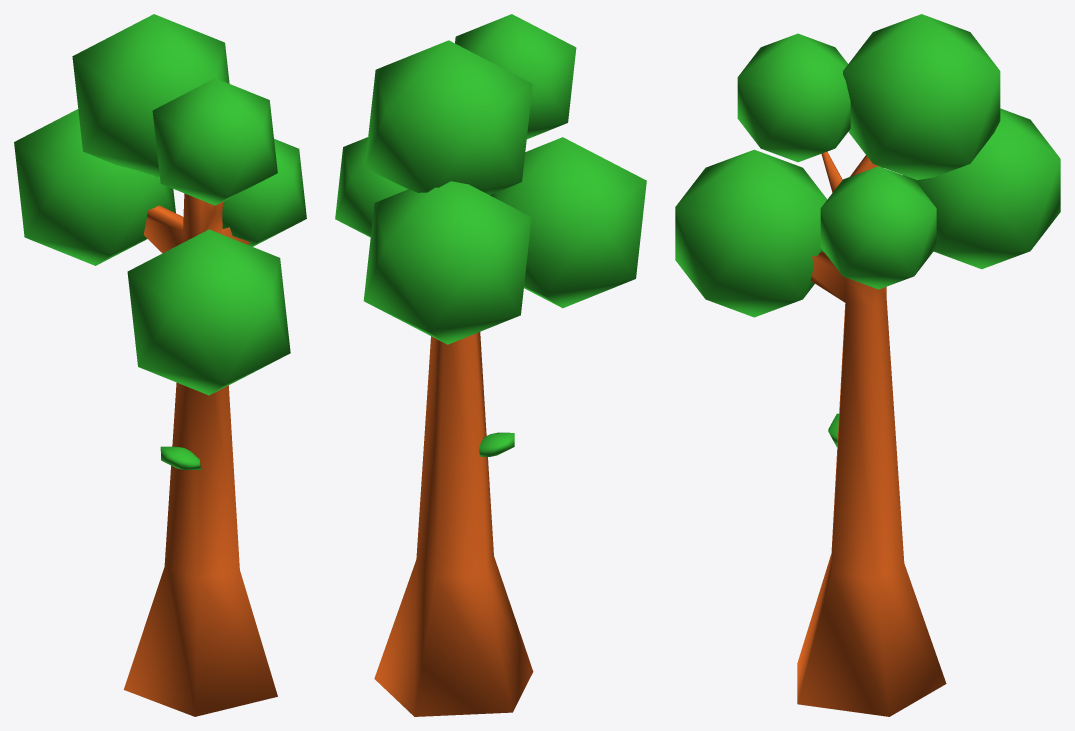
The model's file is SmallTree.glb.
3 renders of one model, left to right at view 1: azimuth 30°, elevation 25°; view 2: azimuth 150°, elevation 25°; view 3: azimuth 270°, elevation 25°, orthographic. The views are drawn at different scales.
Visible parts, largest first — view 1: pohon.001, Icosphere.005, Icosphere.006, Icosphere.004, Icosphere.007, Icosphere.008, Icosphere.009; view 2: pohon.001, Icosphere.004, Icosphere.006, Icosphere.005, Icosphere.007, Icosphere.008, Icosphere.009; view 3: pohon.001, Icosphere.006, Icosphere.005, Icosphere.004, Icosphere.007, Icosphere.008.
Boxes of the visible parts, <box> form: pohon.001: <box>123,193,277,716</box>; Icosphere.005: <box>127,229,290,395</box>; Icosphere.006: <box>72,14,229,177</box>; Icosphere.004: <box>14,109,175,265</box>; Icosphere.007: <box>152,78,277,205</box>; Icosphere.008: <box>222,139,306,246</box>; Icosphere.009: <box>160,446,200,469</box>; pohon.001: <box>374,332,533,716</box>; Icosphere.004: <box>363,181,531,344</box>; Icosphere.006: <box>364,40,532,194</box>; Icosphere.005: <box>490,137,646,308</box>; Icosphere.007: <box>455,14,576,139</box>; Icosphere.008: <box>335,137,406,237</box>; Icosphere.009: <box>479,432,514,456</box>; pohon.001: <box>797,151,946,716</box>; Icosphere.006: <box>843,14,1000,179</box>; Icosphere.005: <box>675,149,827,317</box>; Icosphere.004: <box>903,108,1060,269</box>; Icosphere.007: <box>737,33,850,162</box>; Icosphere.008: <box>820,166,936,289</box>.
Size of the model in its own units: 1.47 by 4.1 by 2.17.
